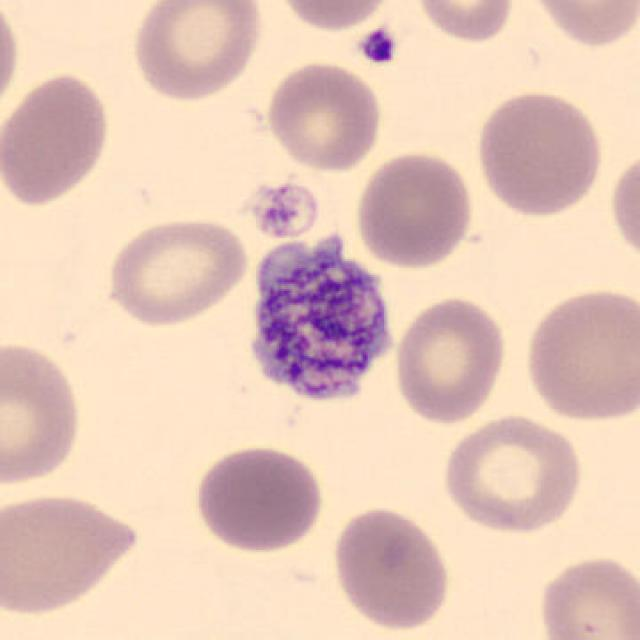Platelets: (238, 226, 404, 418), (247, 178, 324, 242), (356, 24, 400, 68)
RBC: (0, 486, 146, 618), (437, 411, 587, 536), (471, 86, 606, 220), (101, 213, 251, 330), (327, 500, 455, 634), (521, 282, 638, 425), (390, 293, 510, 427), (190, 441, 327, 557), (0, 69, 114, 208), (352, 148, 476, 272), (126, 0, 267, 104), (261, 58, 386, 175), (0, 337, 87, 488), (534, 550, 638, 640), (522, 0, 640, 51), (411, 0, 517, 46), (272, 0, 402, 33), (606, 145, 640, 268), (0, 2, 23, 122)
